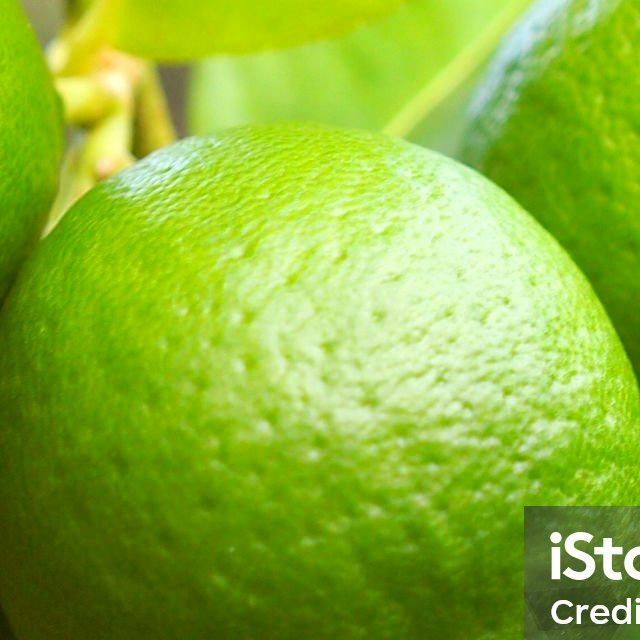lime: (0, 126, 640, 640)
